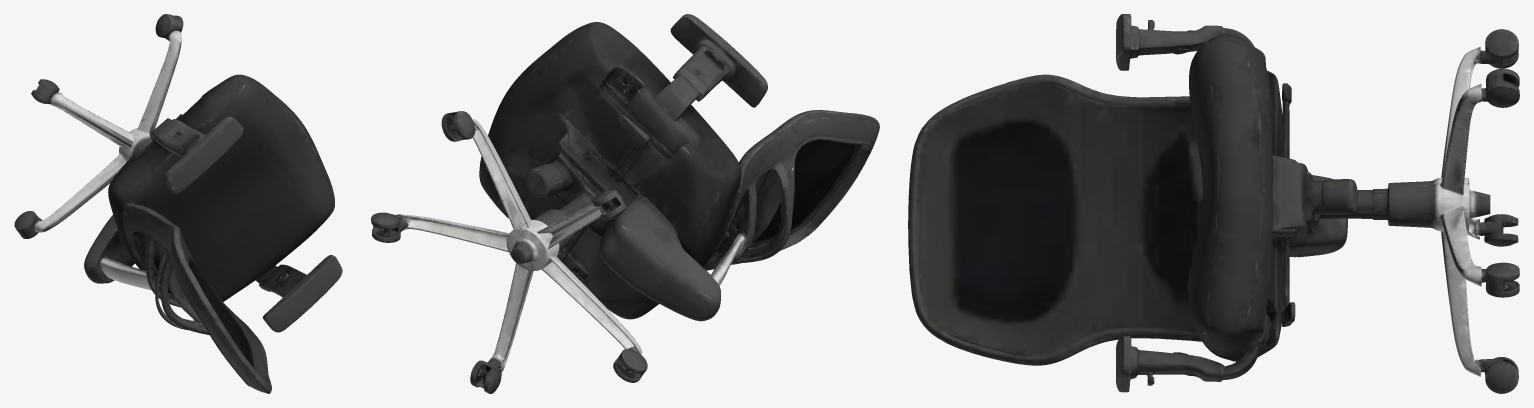
3 renders of one model, left to right at view 1: azimuth 30°, elevation 25°; view 2: azimuth 150°, elevation 25°; view 3: azimuth 270°, elevation 25°, orthographic. The views are drawn at different scales.
Visible parts, largest first — view 1: Jay.001; view 2: Jay.001; view 3: Jay.001.
Boxes of the visible parts, x1,y1,x2,y2 form: Jay.001: (14, 14, 342, 393); Jay.001: (371, 14, 879, 393); Jay.001: (908, 14, 1519, 393).
Size of the model in its own units: 0.0212 by 0.0209 by 0.0323.
1 material, 1 textured.
